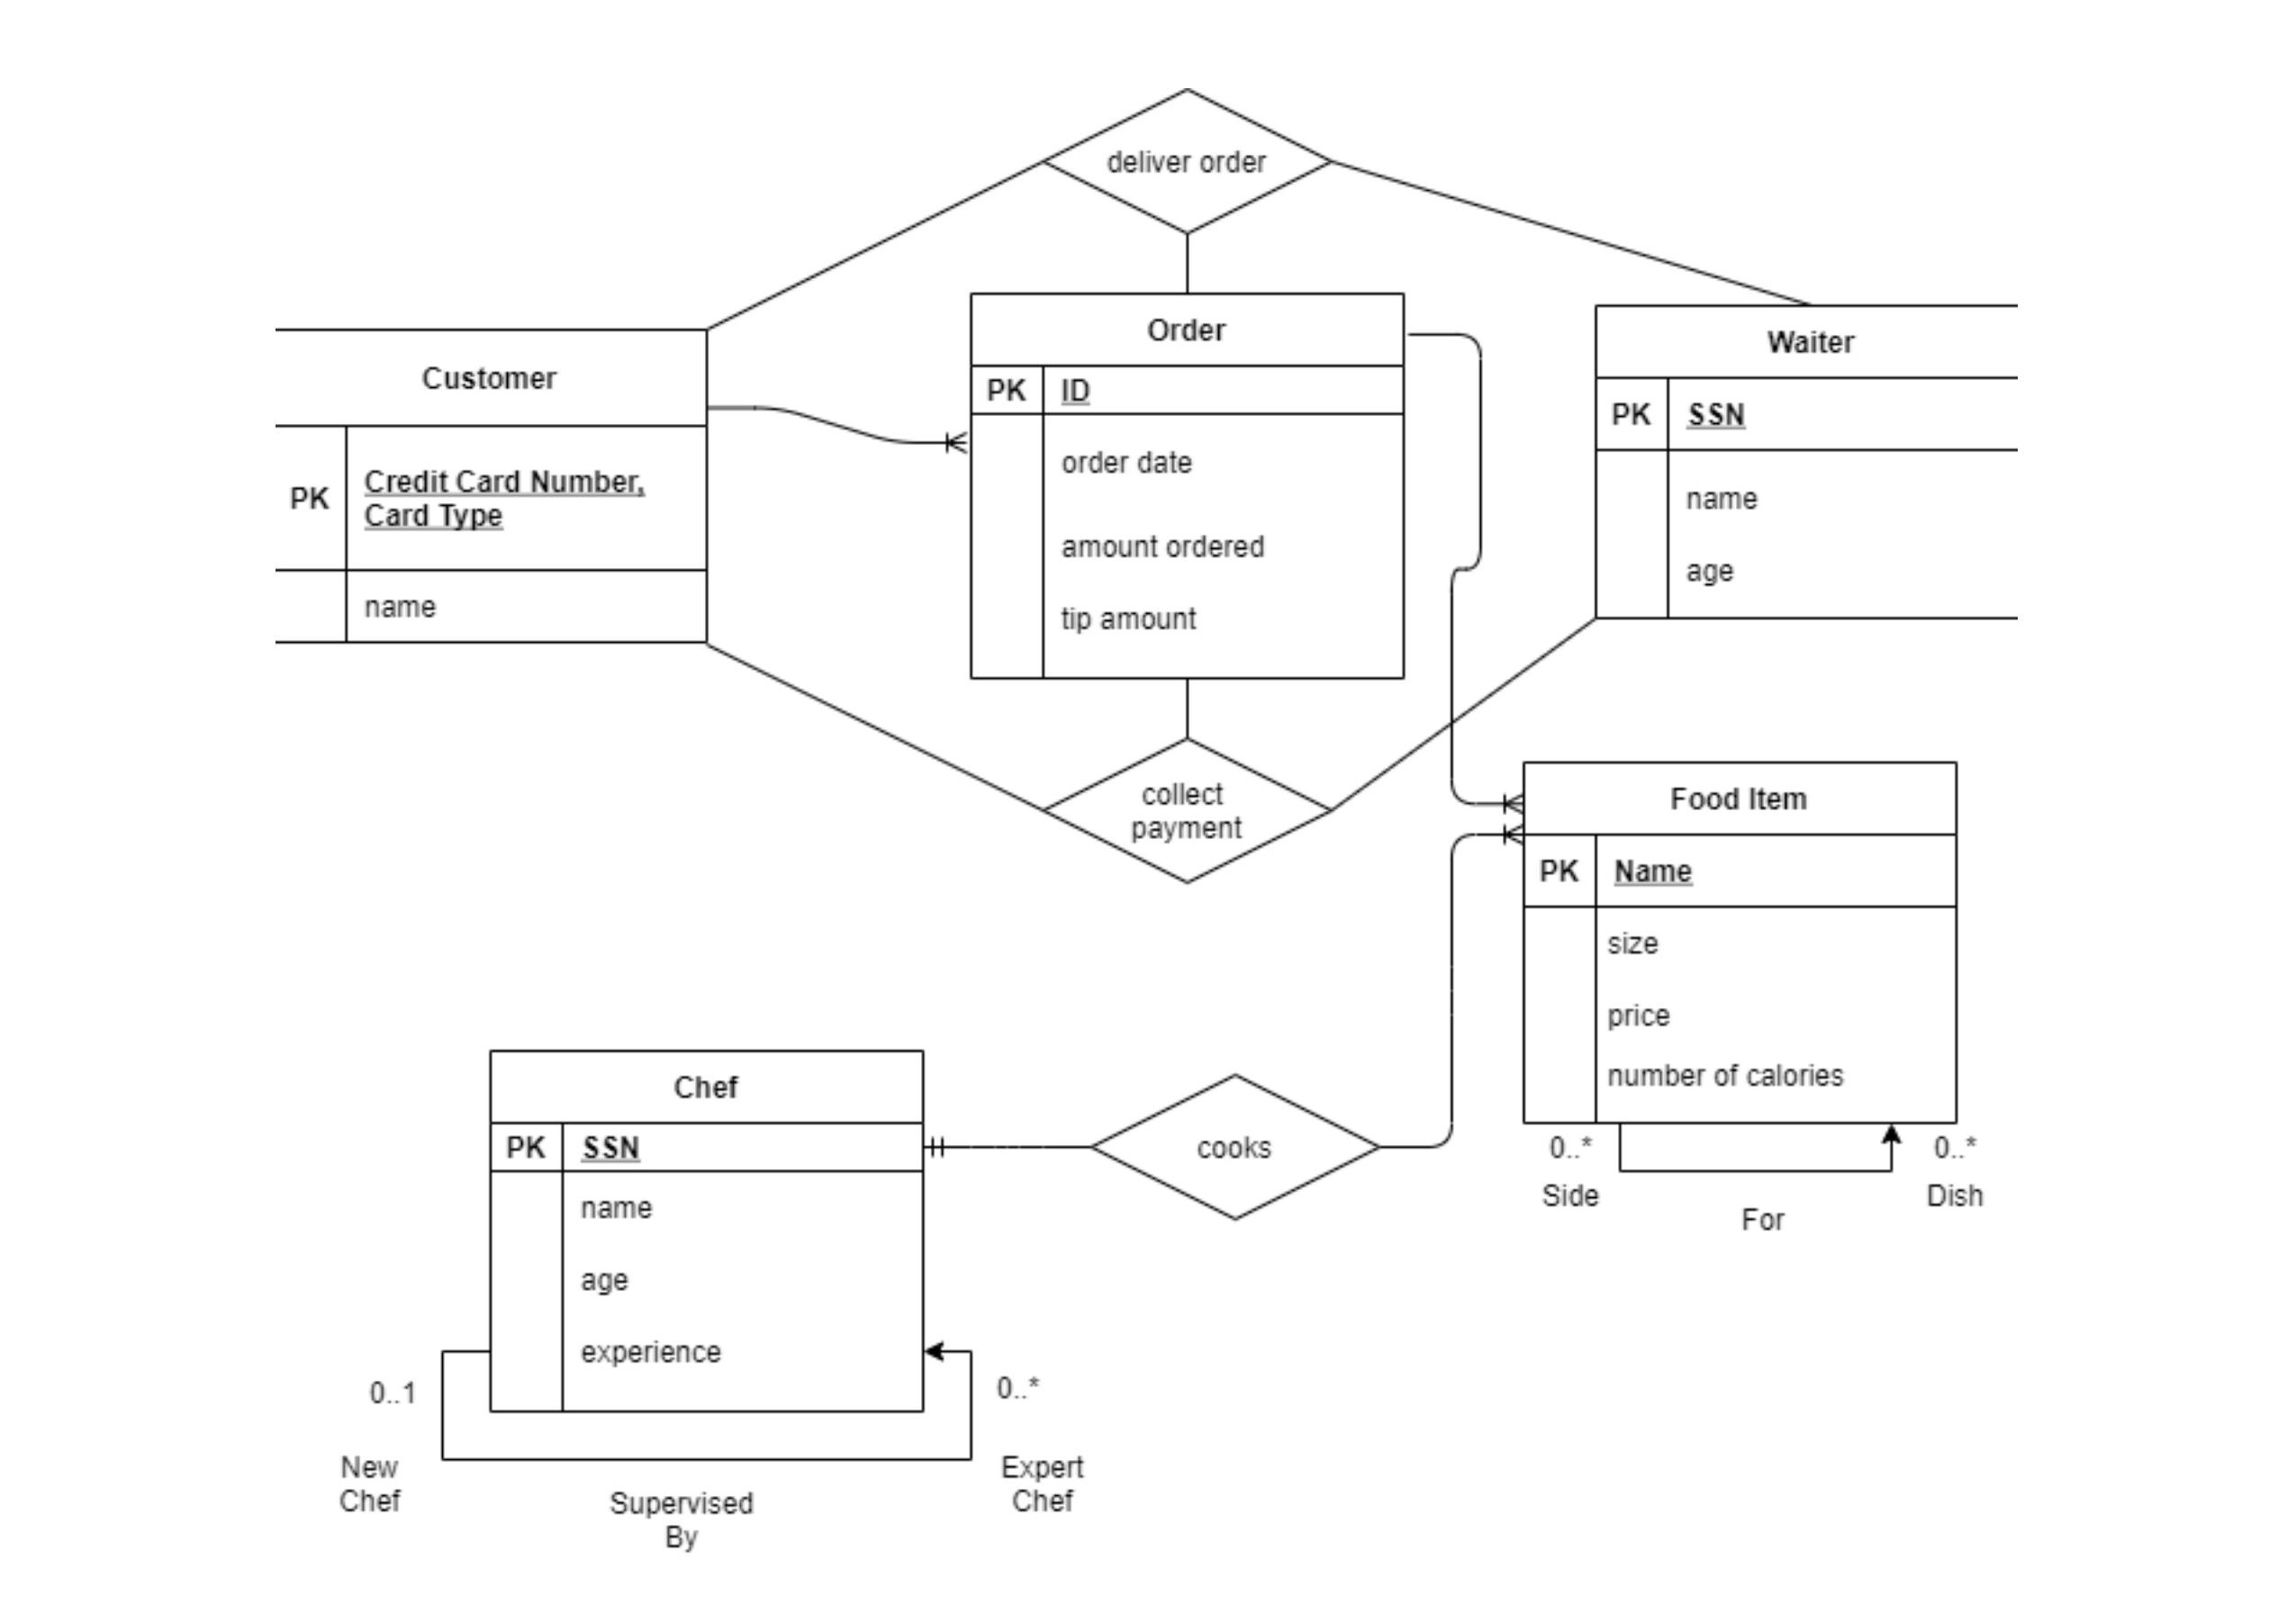Entity: (966, 288, 1410, 686), (486, 1045, 928, 1418), (1518, 758, 1964, 1128), (271, 325, 715, 645), (1592, 300, 2023, 618)
Relationship: (1041, 89, 1335, 238), (1040, 739, 1333, 887), (1089, 1074, 1377, 1224)
